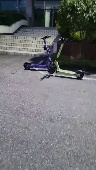beam: (23, 35, 53, 71)
gcooter: (49, 37, 88, 78)
